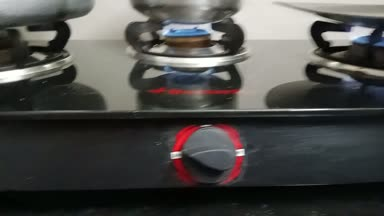flame_gas_on: (149, 19, 245, 185)
